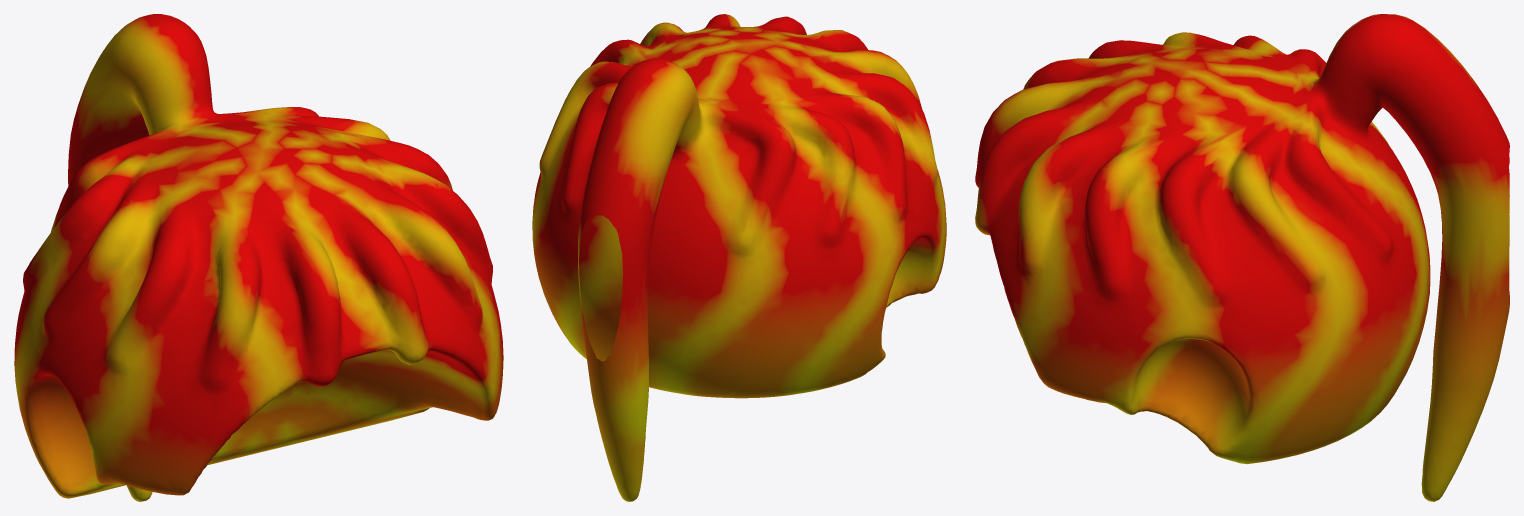
File: high-ponytail.glb
3 renders of one model, left to right at view 1: azimuth 30°, elevation 25°; view 2: azimuth 150°, elevation 25°; view 3: azimuth 270°, elevation 25°, orthographic. The views are drawn at different scales.
Parts seen in each view (by area): view 1: part; view 2: part; view 3: part.
Boxes of the visible parts, x1,y1,x2,y2 form: part: (14, 14, 503, 501); part: (532, 14, 946, 501); part: (975, 14, 1509, 501).
Size of the model in its own units: 2.08 by 2.4 by 2.42.
